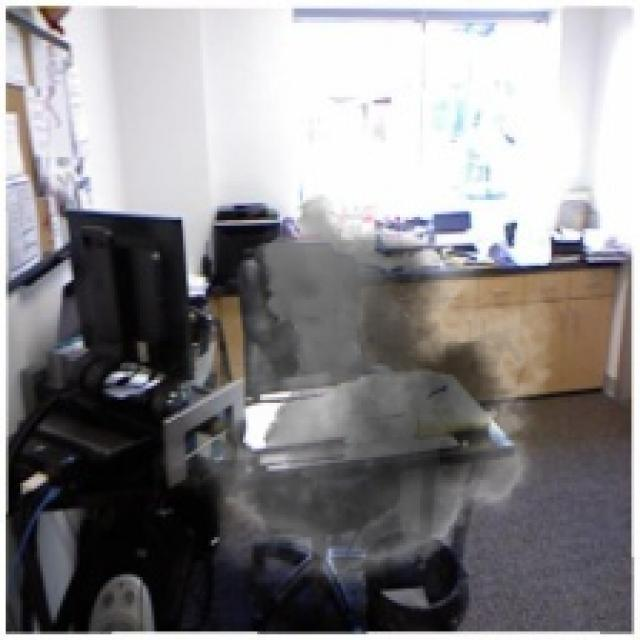Smoke: (152, 194, 574, 606)
